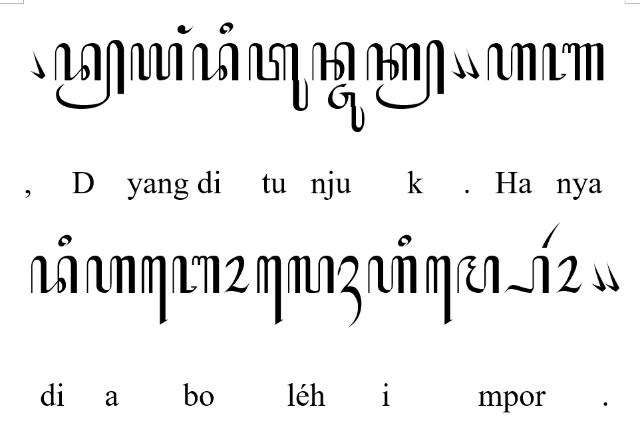-d: (54, 38, 124, 110)
-k: (365, 38, 445, 110)
_h1: (337, 256, 361, 328)
_ju: (326, 84, 366, 132)
_p: (504, 256, 550, 294)
_r1: (540, 222, 562, 249)
b: (172, 256, 220, 294)
d: (192, 42, 240, 81), (32, 256, 78, 294)
e1: (141, 256, 169, 326), (256, 256, 284, 326), (426, 255, 452, 327)
h: (86, 254, 136, 294), (488, 42, 536, 82), (367, 256, 417, 294)
i: (56, 235, 74, 247), (219, 21, 233, 35), (398, 234, 412, 248)
kom: (30, 48, 46, 80), (464, 48, 480, 80), (604, 262, 620, 292), (452, 49, 466, 79), (592, 262, 606, 292)
l: (288, 256, 334, 294)
m: (456, 256, 499, 294)
n: (312, 42, 354, 81)
ng: (178, 24, 195, 34)
ny1: (543, 42, 605, 82)
o: (223, 256, 250, 294), (556, 256, 582, 294)
tu: (248, 42, 310, 112)
y: (130, 44, 182, 80)
